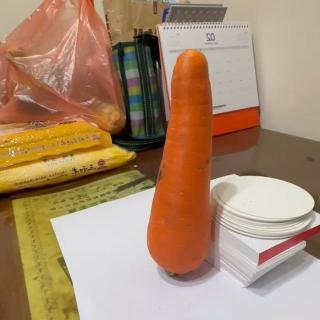carrot: (145, 47, 213, 275)
